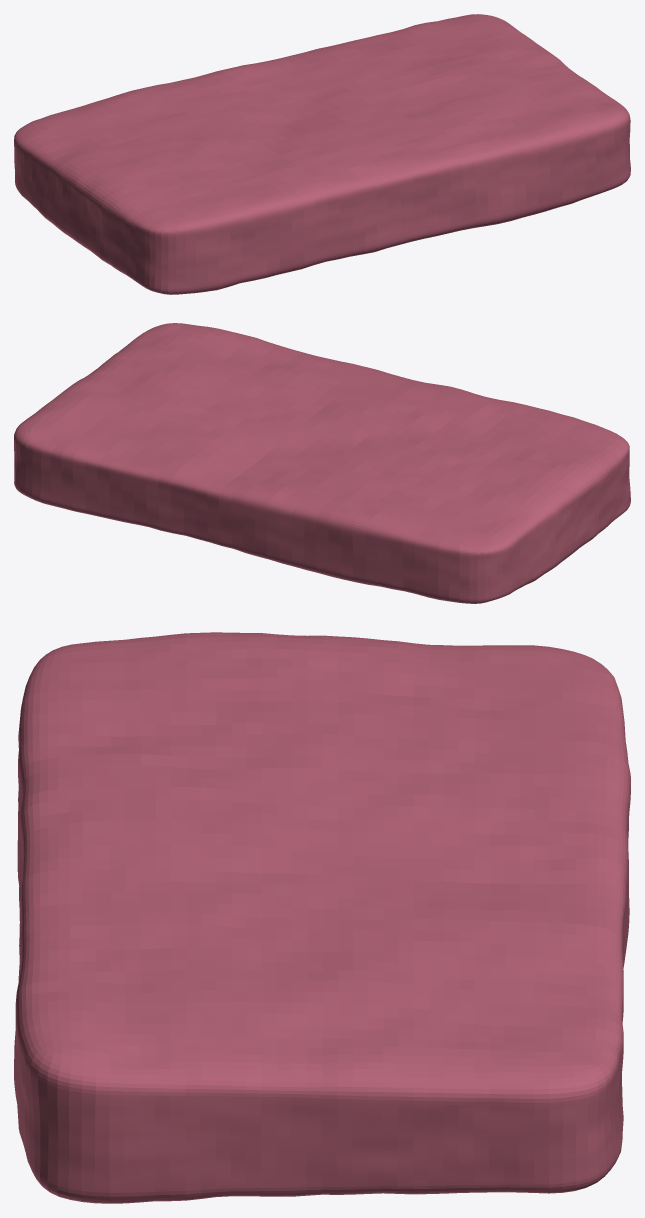
The picture shows the model from 3 angles, top to bottom: view 1: azimuth 30°, elevation 25°; view 2: azimuth 150°, elevation 25°; view 3: azimuth 270°, elevation 25°; orthographic projection. The views are drawn at different scales.
Parts seen in each view (by area): view 1: Pillow; view 2: Pillow; view 3: Pillow.
Boxes of the visible parts, x1=… form: Pillow: x1=14, y1=14, x2=630, y2=294; Pillow: x1=14, y1=323, x2=630, y2=603; Pillow: x1=14, y1=632, x2=630, y2=1203.
Bounding box in the file's own units: 1.41 × 0.2278 × 0.8129.
